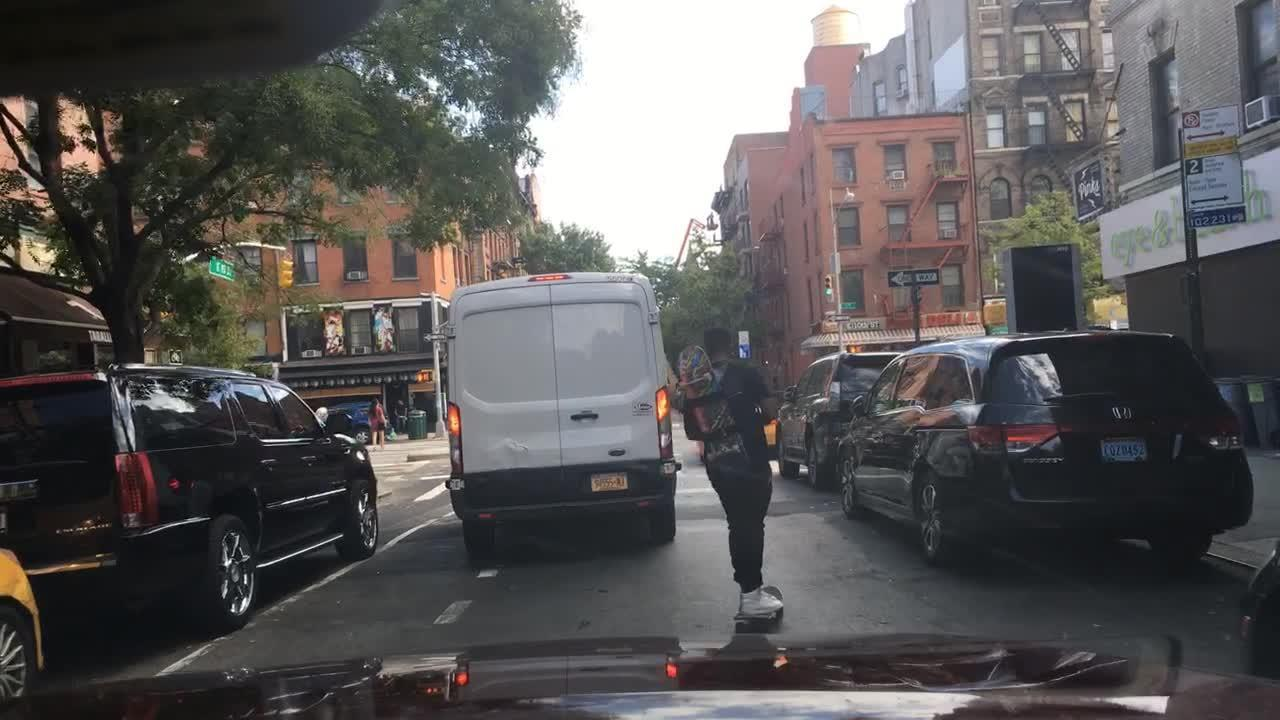Honda: (1108, 400, 1137, 427)
